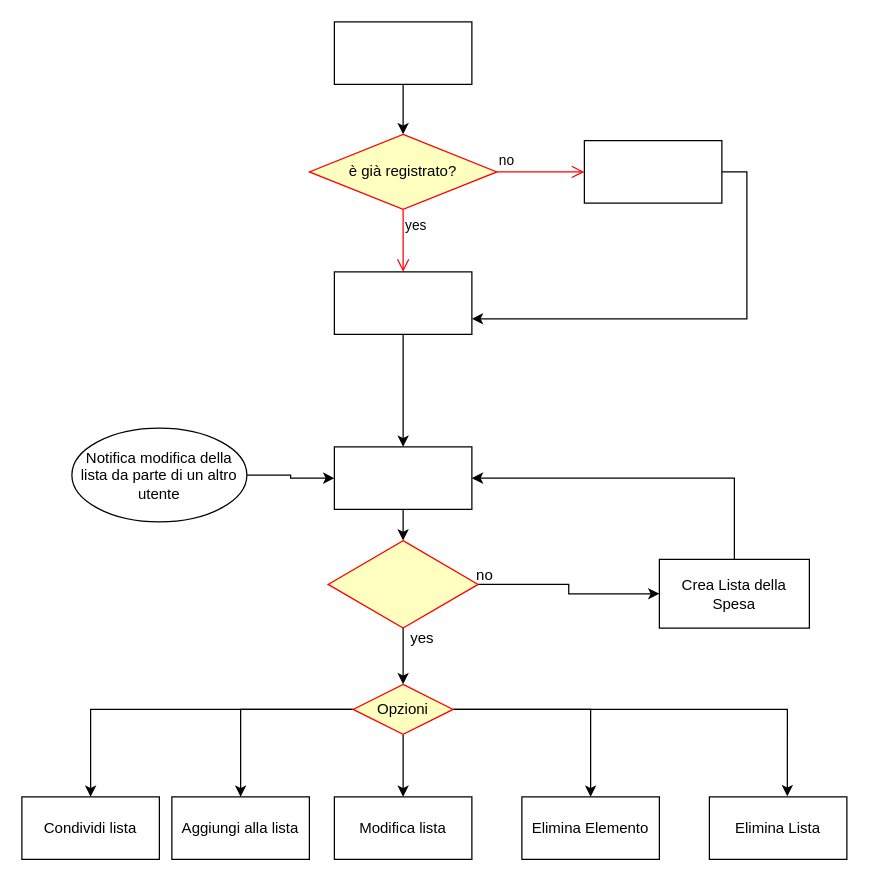
The diagram is 869 pixels wide and 881 high, and some of its shapes have lost their labels. The shapes that lost their labels are listed below. From the top down, each one's centre as x and y in pixels, then its label:
the point at 402,52: Utente
the point at 652,171: registrazione
the point at 402,302: Login
the point at 402,477: Menu
the point at 402,583: Esiste la una lista
